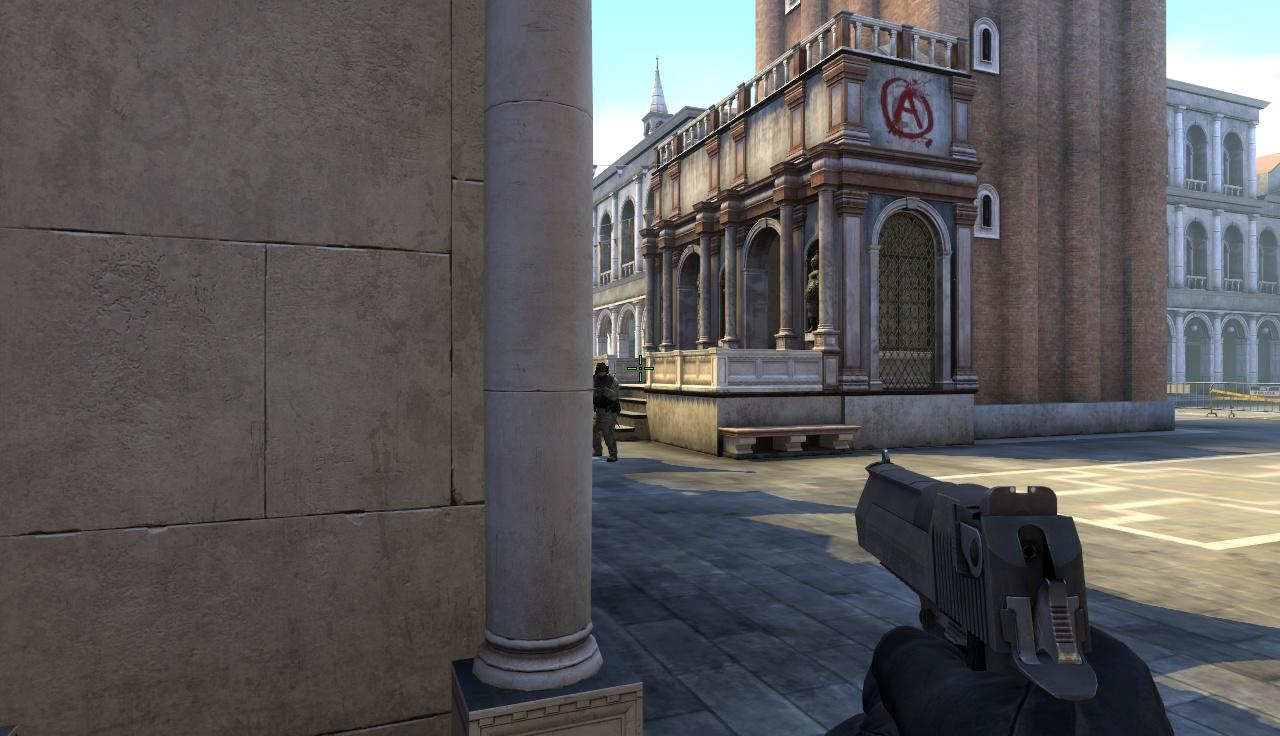ct: (592, 361, 617, 463)
cthead: (595, 362, 608, 380)
pistol: (846, 456, 1161, 736)
